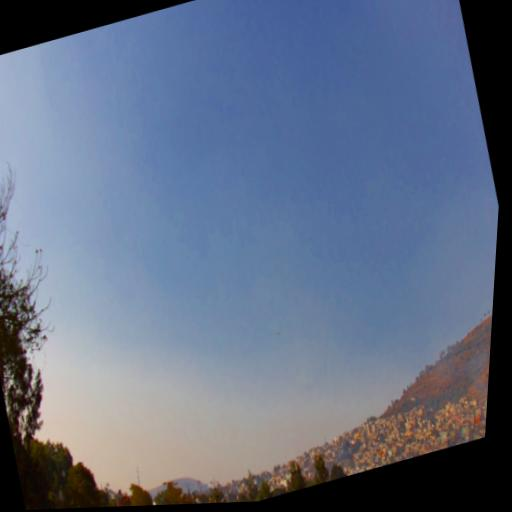drones: (274, 329, 281, 337)
